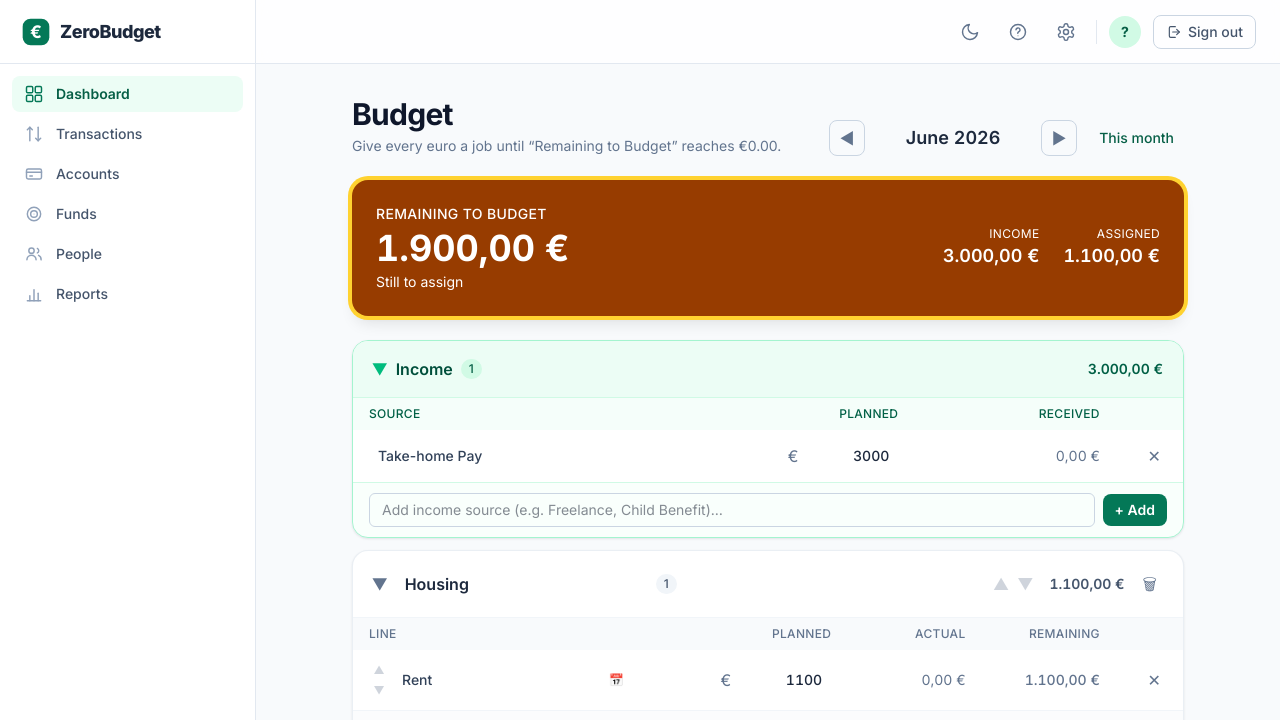
Scenario: DashboardPage month navigation › offers to copy the previous month when navigating to an empty month
Expected: the field named "Planned amount for Rent" is shown, [735,665,831,695]
Click the button named "Next month" at (1059, 138), box [1041,120,1077,156]
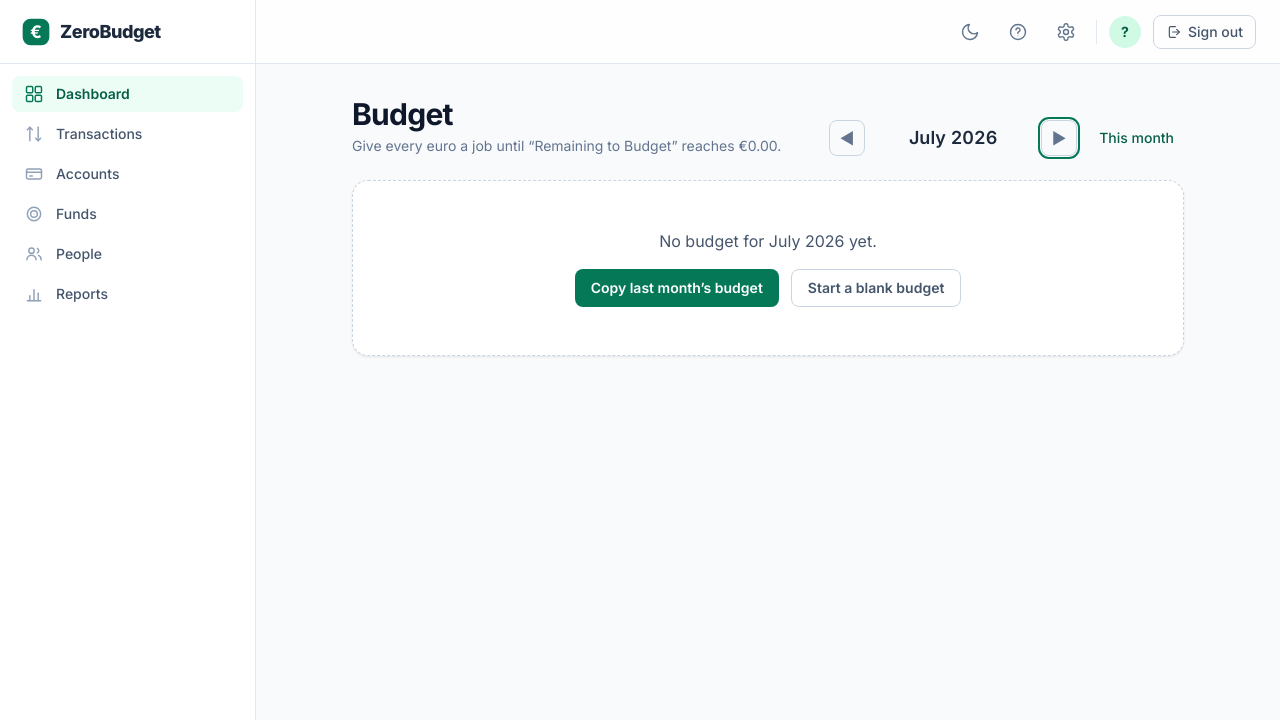
Expected: the text "No budget for July 2026 yet." is shown, [659,231,877,251]
Click the button "Copy last month’s budget" at (677, 288), box [575,269,779,307]
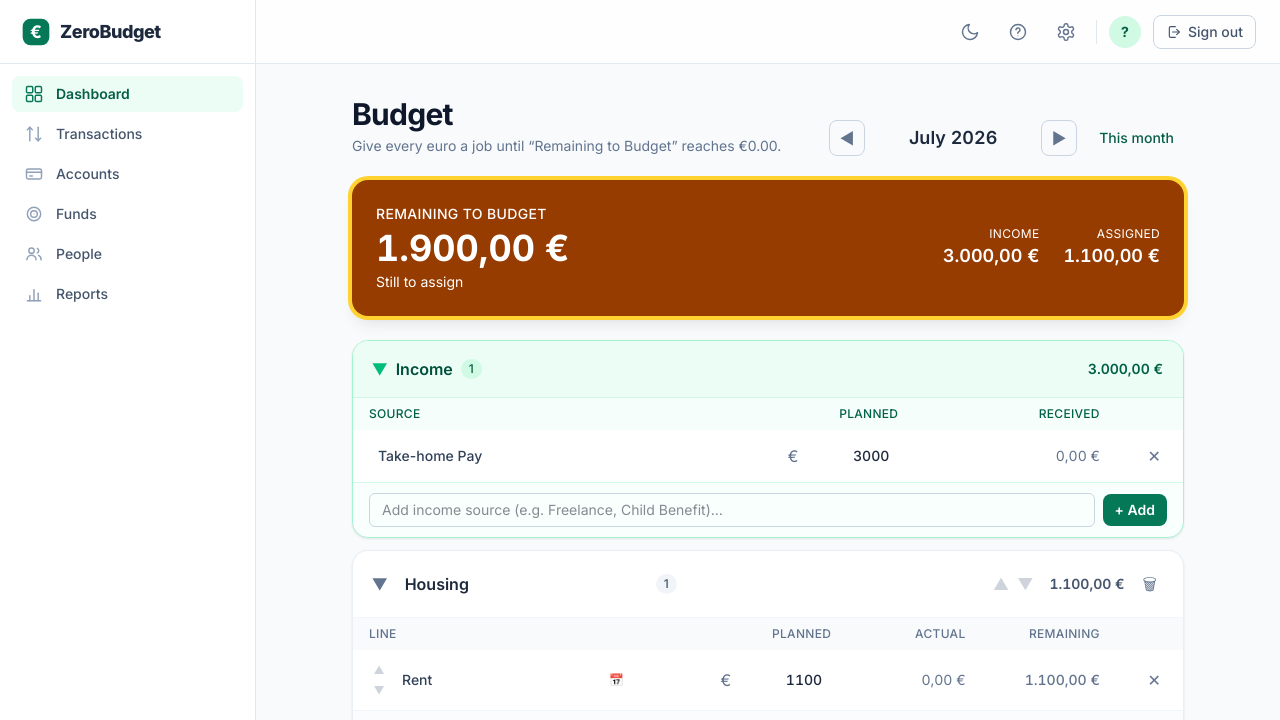
Expected: the field named "Planned amount for Rent" is shown, [735,665,831,695]
